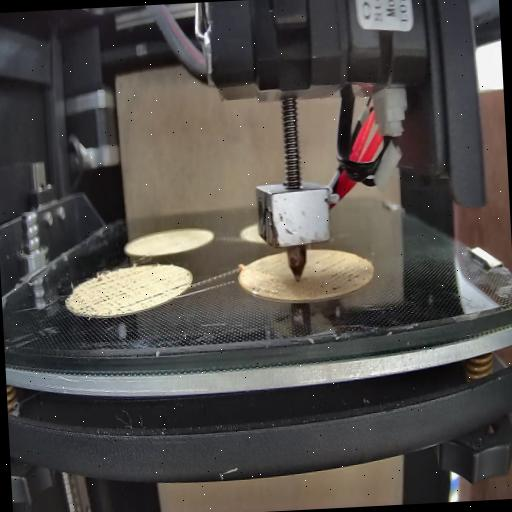under_extrusion: (68, 268, 166, 318), (314, 251, 372, 295), (252, 278, 285, 302), (170, 279, 188, 294)
